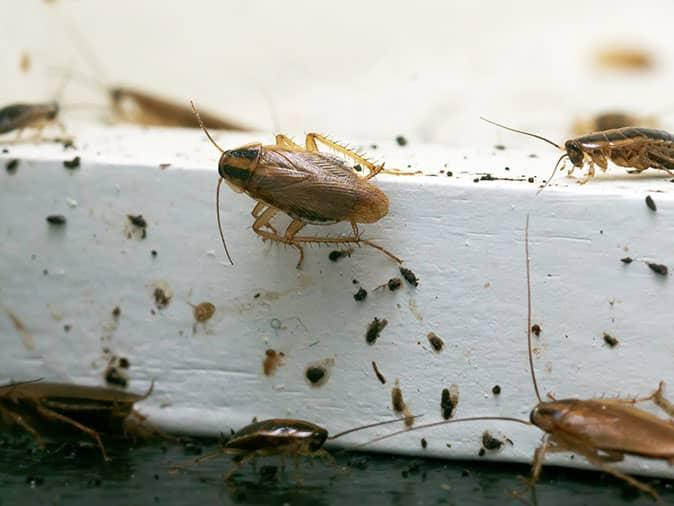cockroach: (214, 134, 393, 234), (520, 386, 674, 481), (0, 378, 163, 444), (214, 412, 339, 475), (557, 126, 674, 189), (0, 97, 72, 141)
